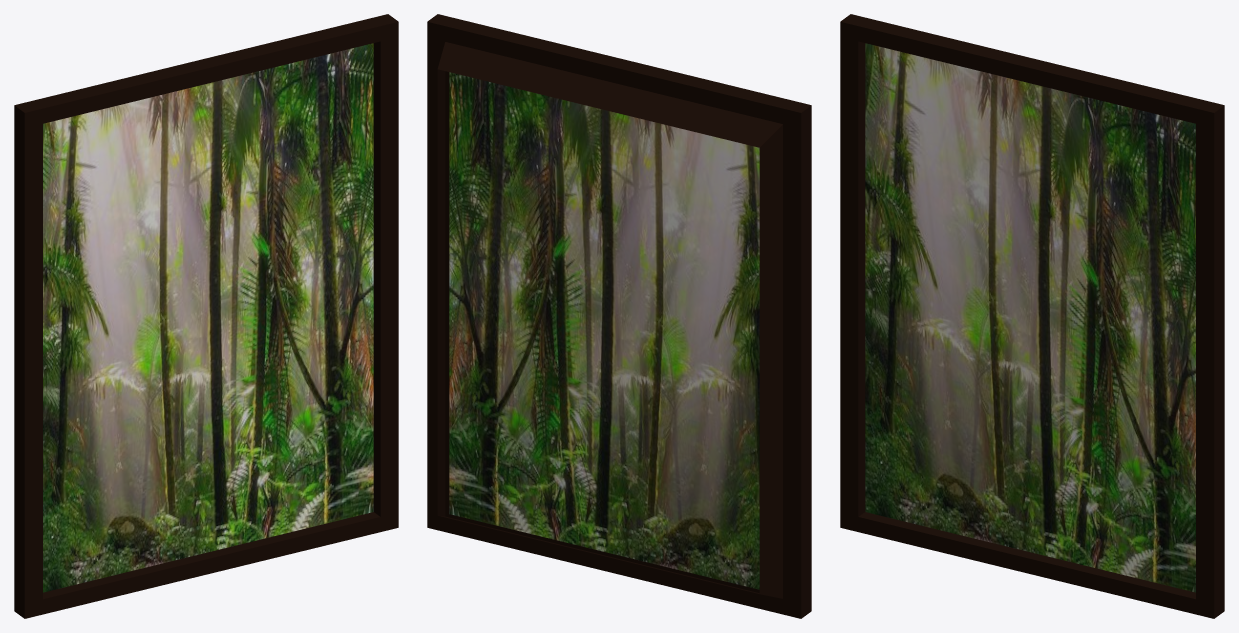
File: forestframe.obj
3 views of the same model, side by side, from view 1: azimuth 30°, elevation 25°; view 2: azimuth 150°, elevation 25°; view 3: azimuth 330°, elevation 25° (orthographic).
Parts seen in each view (by area): view 1: house_interior:Box044 group1; view 2: house_interior:Box044 group1; view 3: house_interior:Box044 group1.
Boxes of the visible parts, x1,y1,x2,y2 form: house_interior:Box044 group1: (14,14,398,618); house_interior:Box044 group1: (427,14,811,618); house_interior:Box044 group1: (840,14,1224,618).
Bounding box in the file's own units: 1.68 × 2.17 × 0.2033.
Materials: 2 (1 with a texture image).
